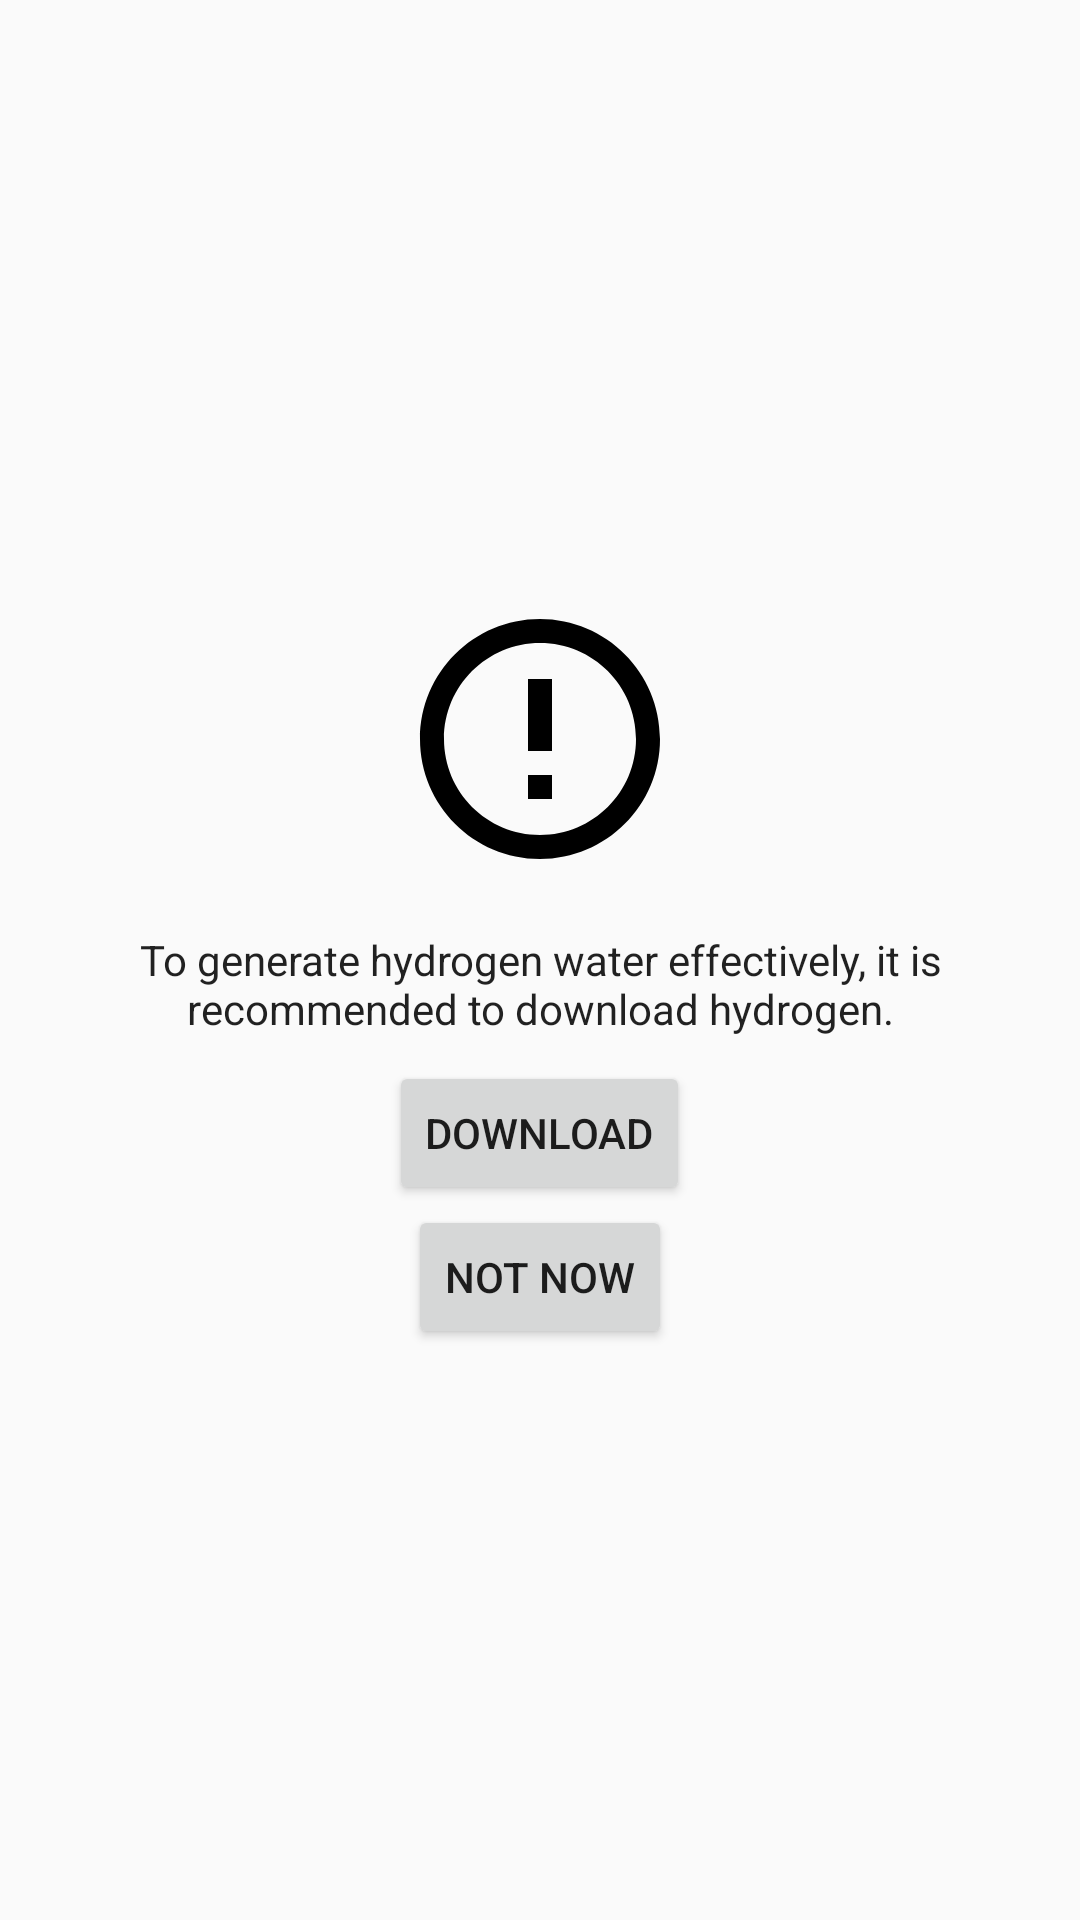

Icons on this 1080 × 1920 Android screen, each with its box as (x1, y1, x2, y2):
alert: (420, 619, 660, 859)
